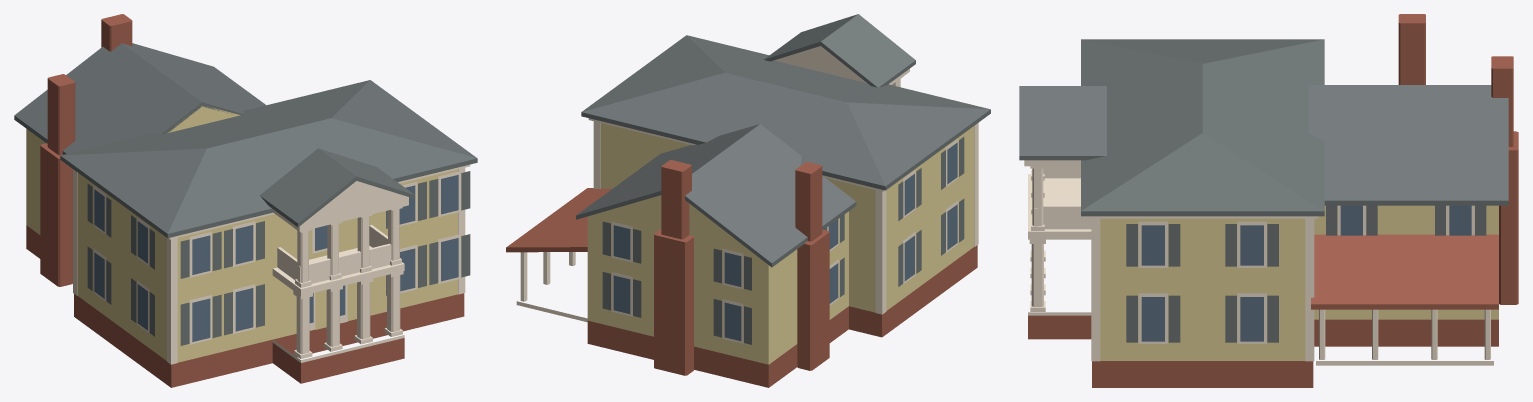
File: ral-mordecai-house.glb
3 renders of one model, left to right at view 1: azimuth 30°, elevation 25°; view 2: azimuth 150°, elevation 25°; view 3: azimuth 270°, elevation 25°, orthographic. The views are drawn at different scales.
Visible parts, largest first — view 1: Mordecai House; view 2: Mordecai House; view 3: Mordecai House.
Boxes of the visible parts, x1=… form: Mordecai House: x1=14, y1=14, x2=477, y2=387; Mordecai House: x1=506, y1=14, x2=990, y2=387; Mordecai House: x1=1019, y1=14, x2=1518, y2=387.
Size of the model in its own units: 16.46 by 10.4 by 20.2.
